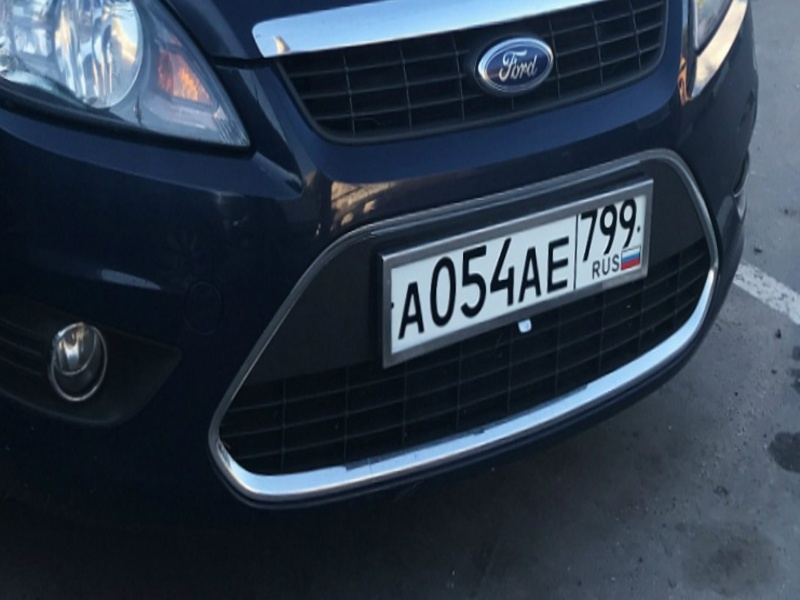car: (1, 1, 758, 528)
plate: (390, 194, 645, 354)
